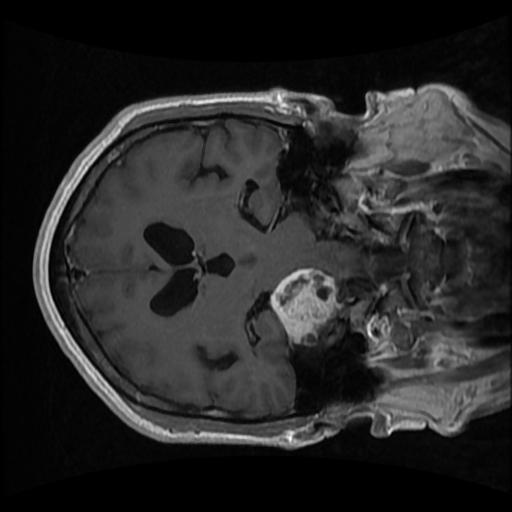meningioma: (268, 267, 341, 348)
